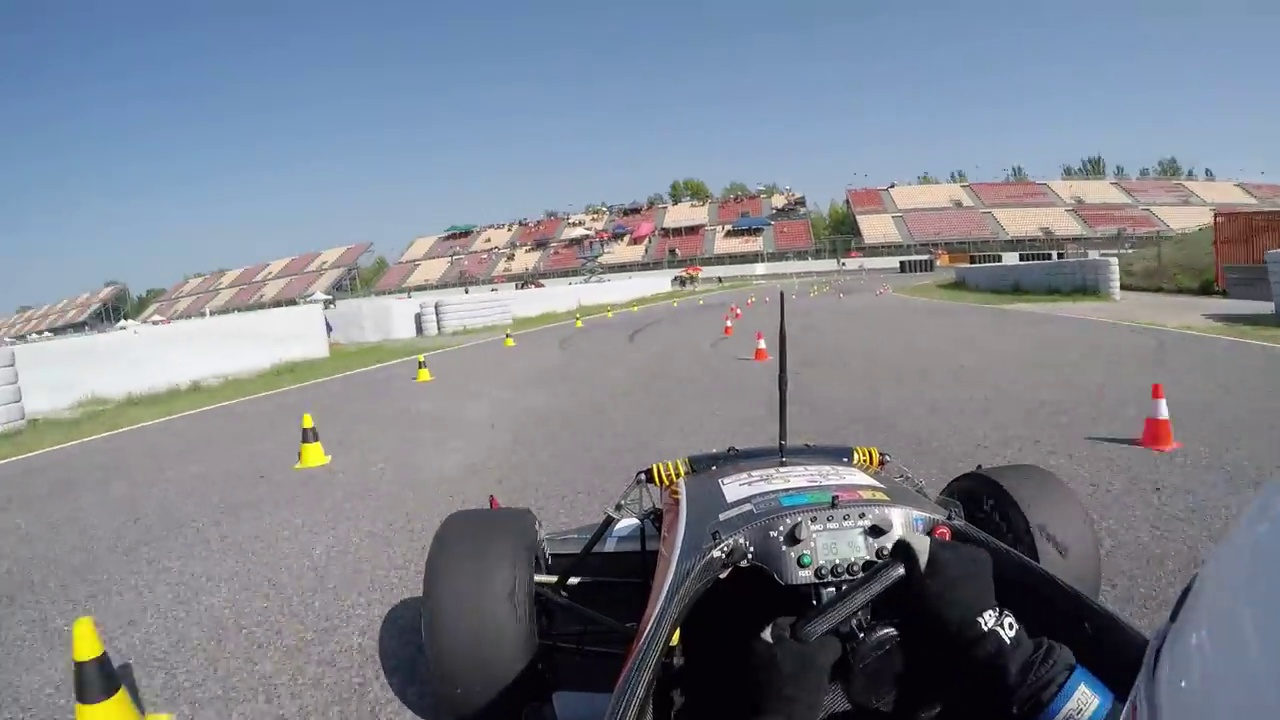Cone: (1140, 380, 1180, 454), (295, 412, 329, 470), (750, 330, 773, 362), (412, 353, 435, 382)
